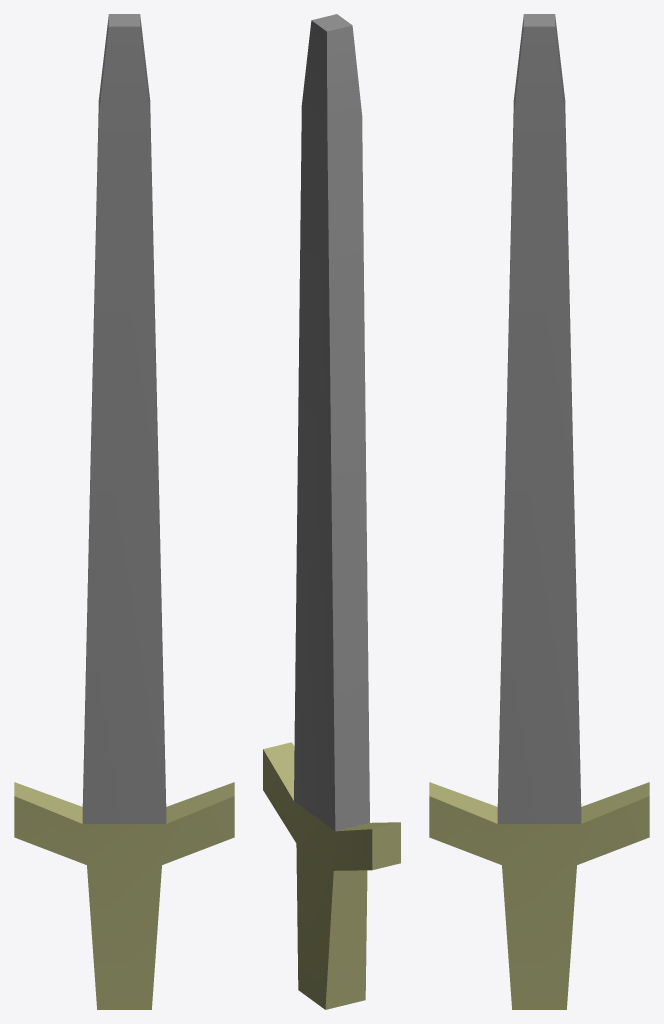
File: sword.FBX
The picture shows the model from 3 angles, left to right: view 1: azimuth 90°, elevation 25°; view 2: azimuth 210°, elevation 25°; view 3: azimuth 270°, elevation 25°; orthographic projection.
Visible parts, largest first — view 1: sword; view 2: sword; view 3: sword.
Part boxes in pixels (x1,y1,x2,y2): sword: [14, 14, 234, 1009]; sword: [263, 14, 400, 1009]; sword: [429, 14, 649, 1009].
Bounding box in the file's own units: 6.85 × 158 × 32.21.
